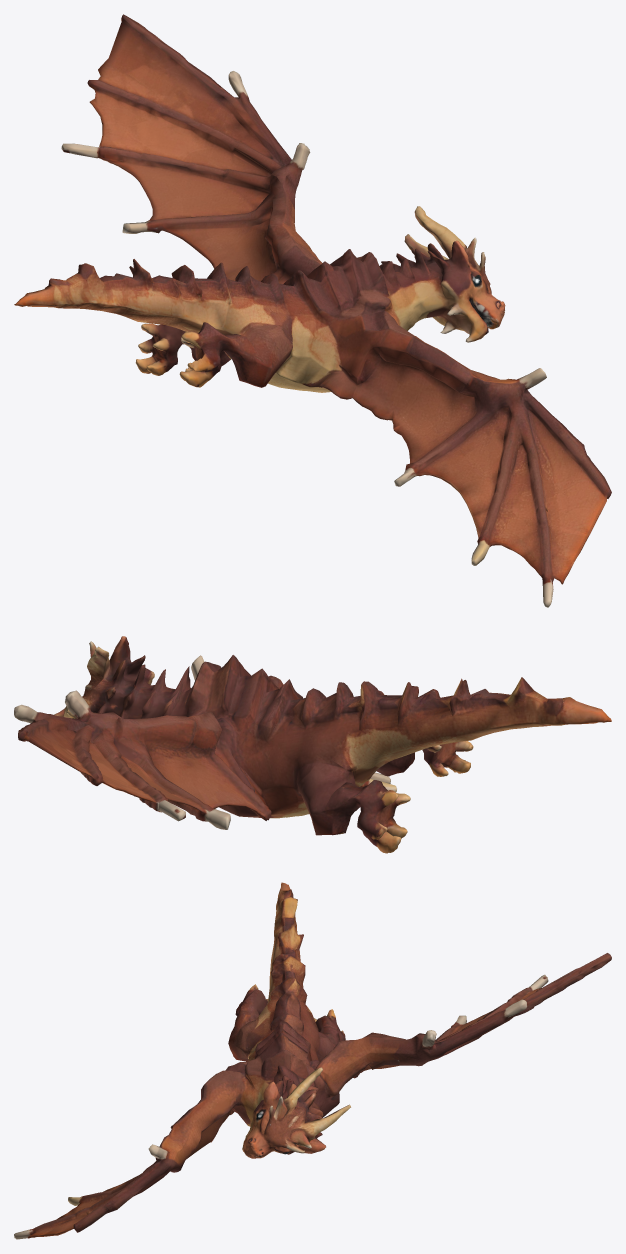
File: dragon.glb
3 views of the same model, one above another, from view 1: azimuth 30°, elevation 25°; view 2: azimuth 150°, elevation 25°; view 3: azimuth 270°, elevation 25° (orthographic). The views are drawn at different scales.
Visible parts, largest first — view 1: tripo_node_5feca8a4-bd39-4375-9ec2-849c497f3633; view 2: tripo_node_5feca8a4-bd39-4375-9ec2-849c497f3633; view 3: tripo_node_5feca8a4-bd39-4375-9ec2-849c497f3633.
Part boxes in pixels (x1,y1,x2,y2): tripo_node_5feca8a4-bd39-4375-9ec2-849c497f3633: [14, 14, 611, 607]; tripo_node_5feca8a4-bd39-4375-9ec2-849c497f3633: [14, 636, 611, 853]; tripo_node_5feca8a4-bd39-4375-9ec2-849c497f3633: [14, 882, 611, 1239].
Bounding box in the file's own units: 0.8389 × 0.5632 × 1.15.
1 material, 1 textured.
